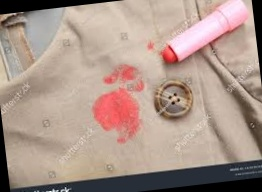lipstick: (90, 75, 147, 151), (98, 62, 147, 98), (142, 42, 156, 54)
